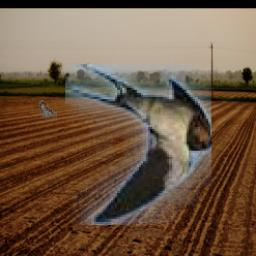Sparrow: (38, 100, 57, 119)
Swallow: (66, 64, 212, 225)
